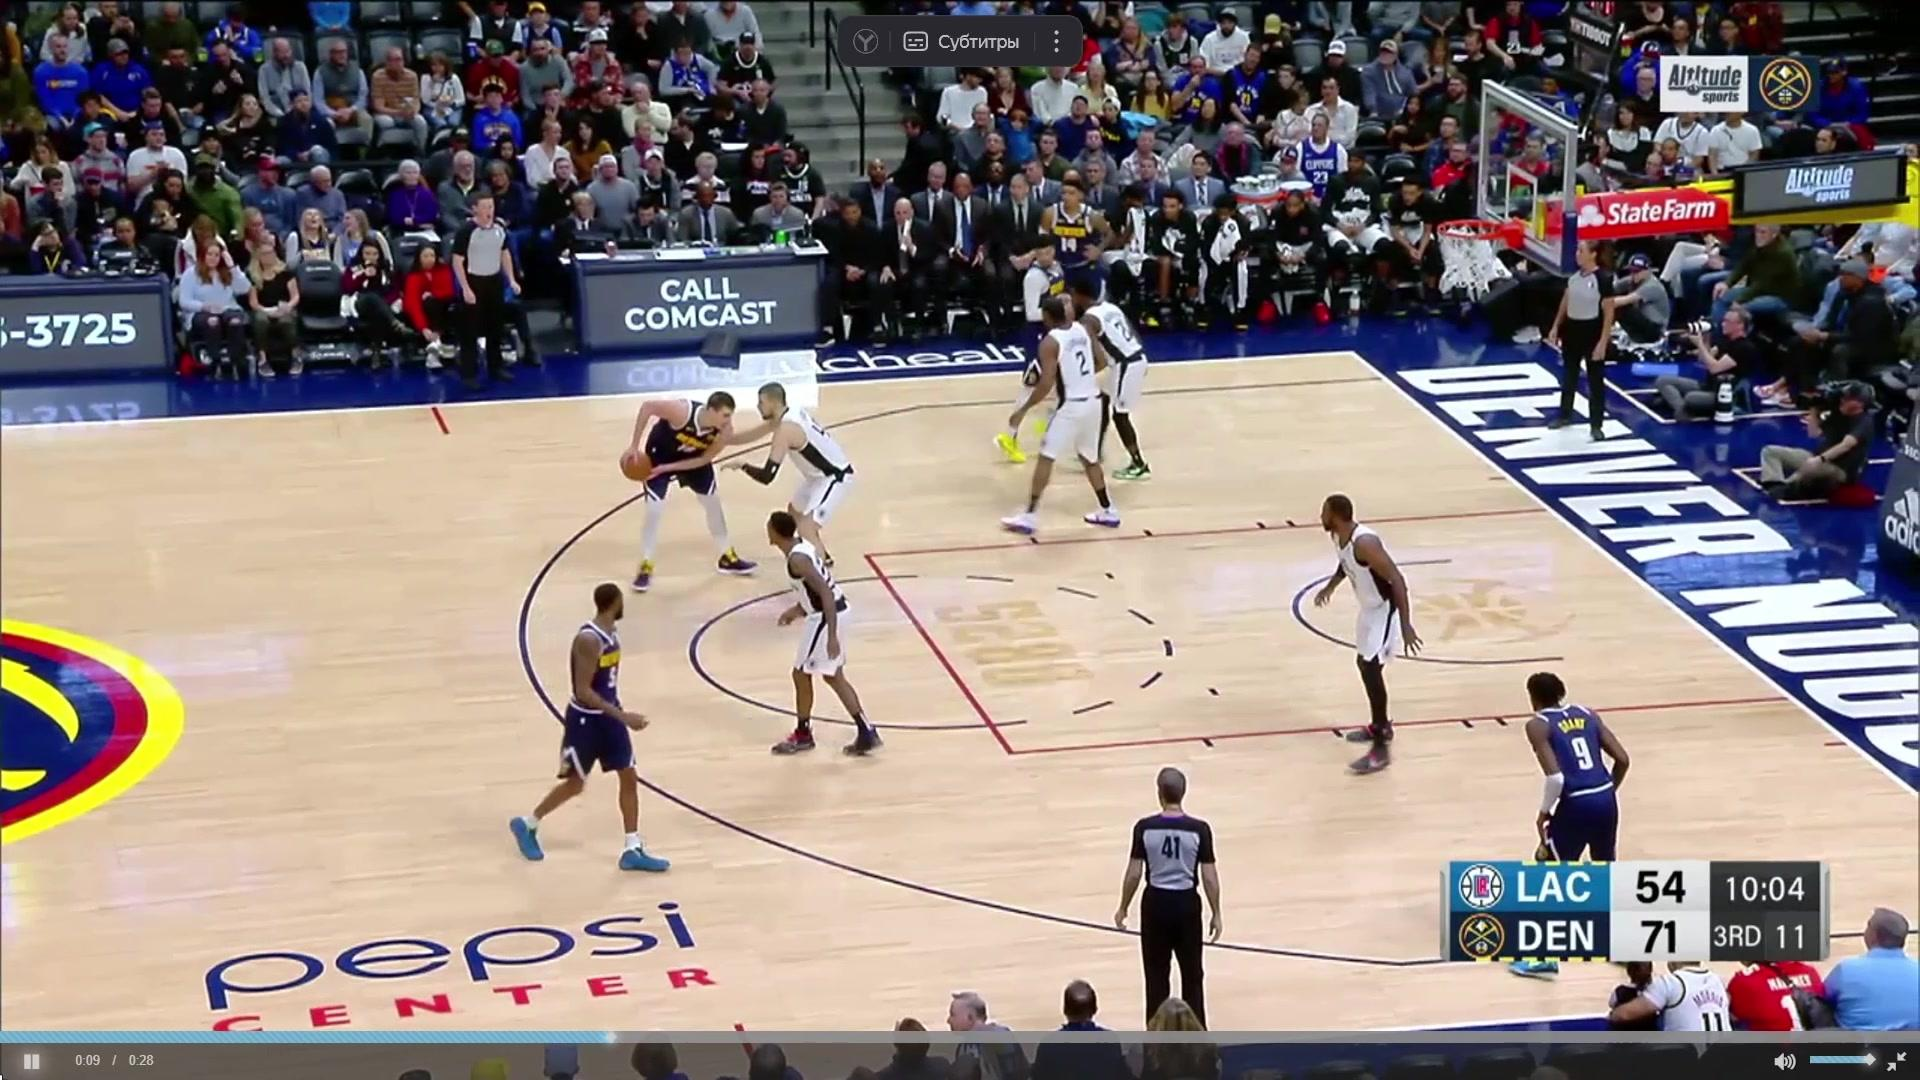no_foul: (597, 367, 876, 600)
